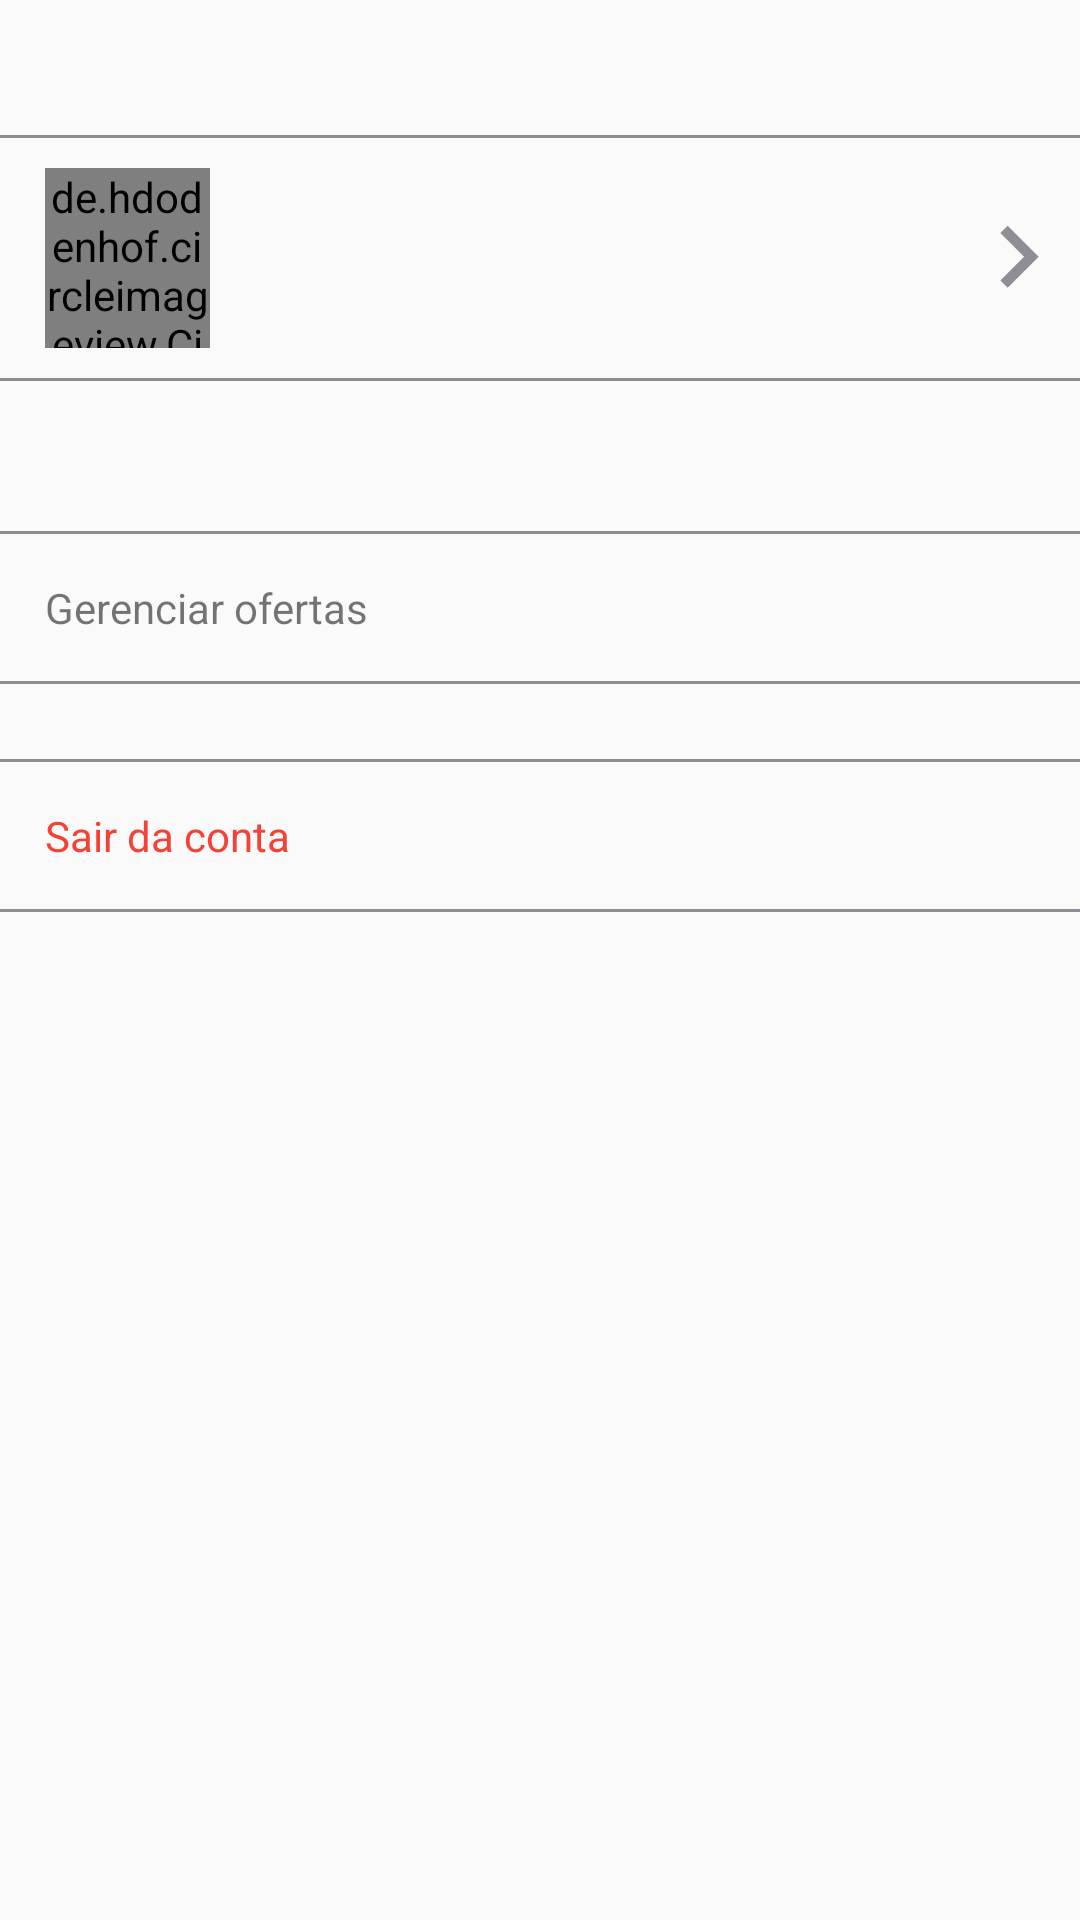

Named icons in this screenshot (1080*1920) and their bounding boxes, (x1=x1, y1=y1, x2=x2, y2=y2):
arrow right: (x1=1000, y1=226, x2=1039, y2=288)
